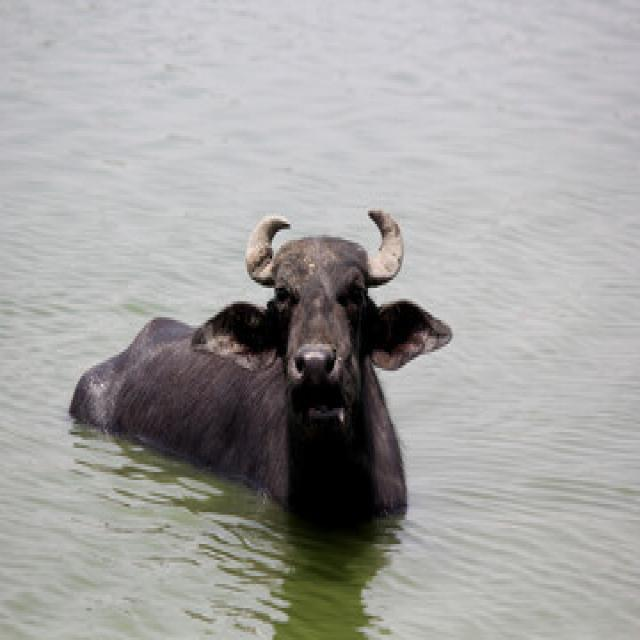Buffalo: (66, 203, 453, 533)
